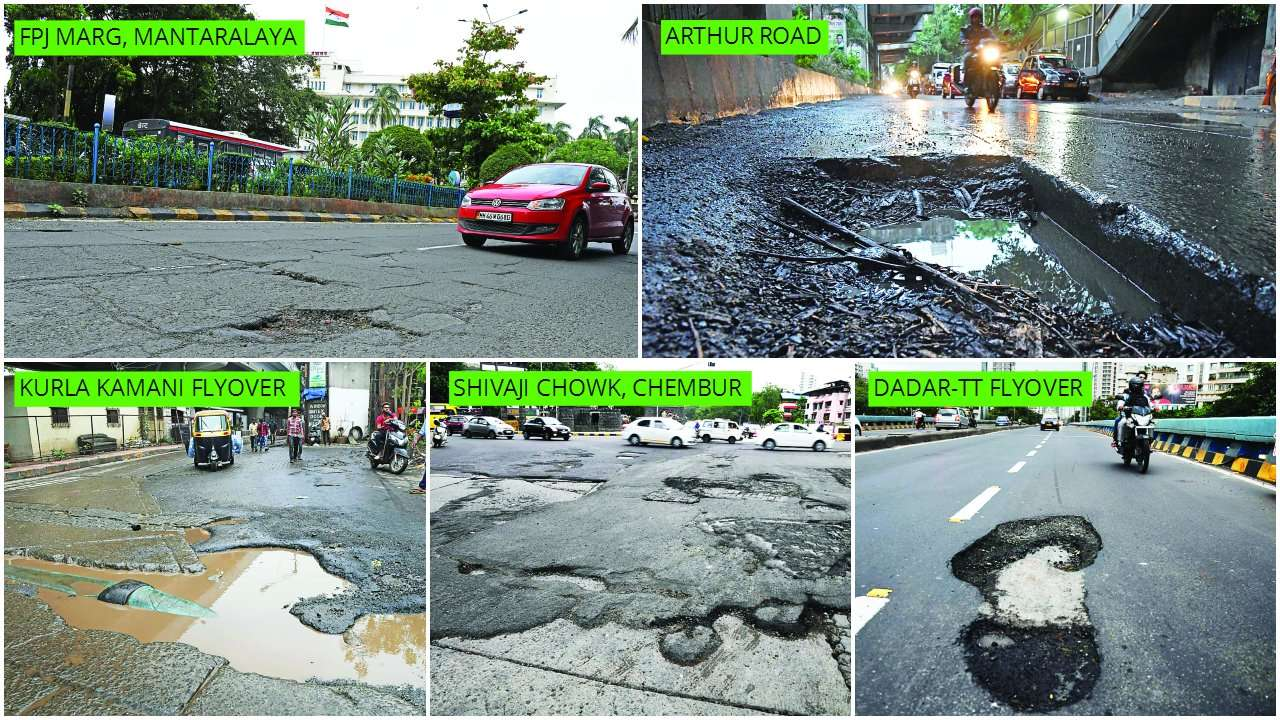pothole: (778, 139, 1238, 353), (796, 136, 1171, 353), (17, 528, 417, 712), (933, 502, 1168, 717), (443, 459, 616, 541), (513, 536, 621, 629), (678, 477, 817, 544), (252, 281, 389, 348)
